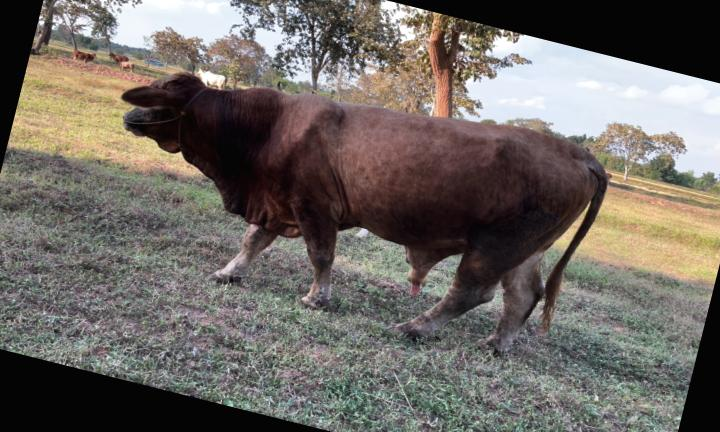Charolais: (121, 72, 607, 350)
